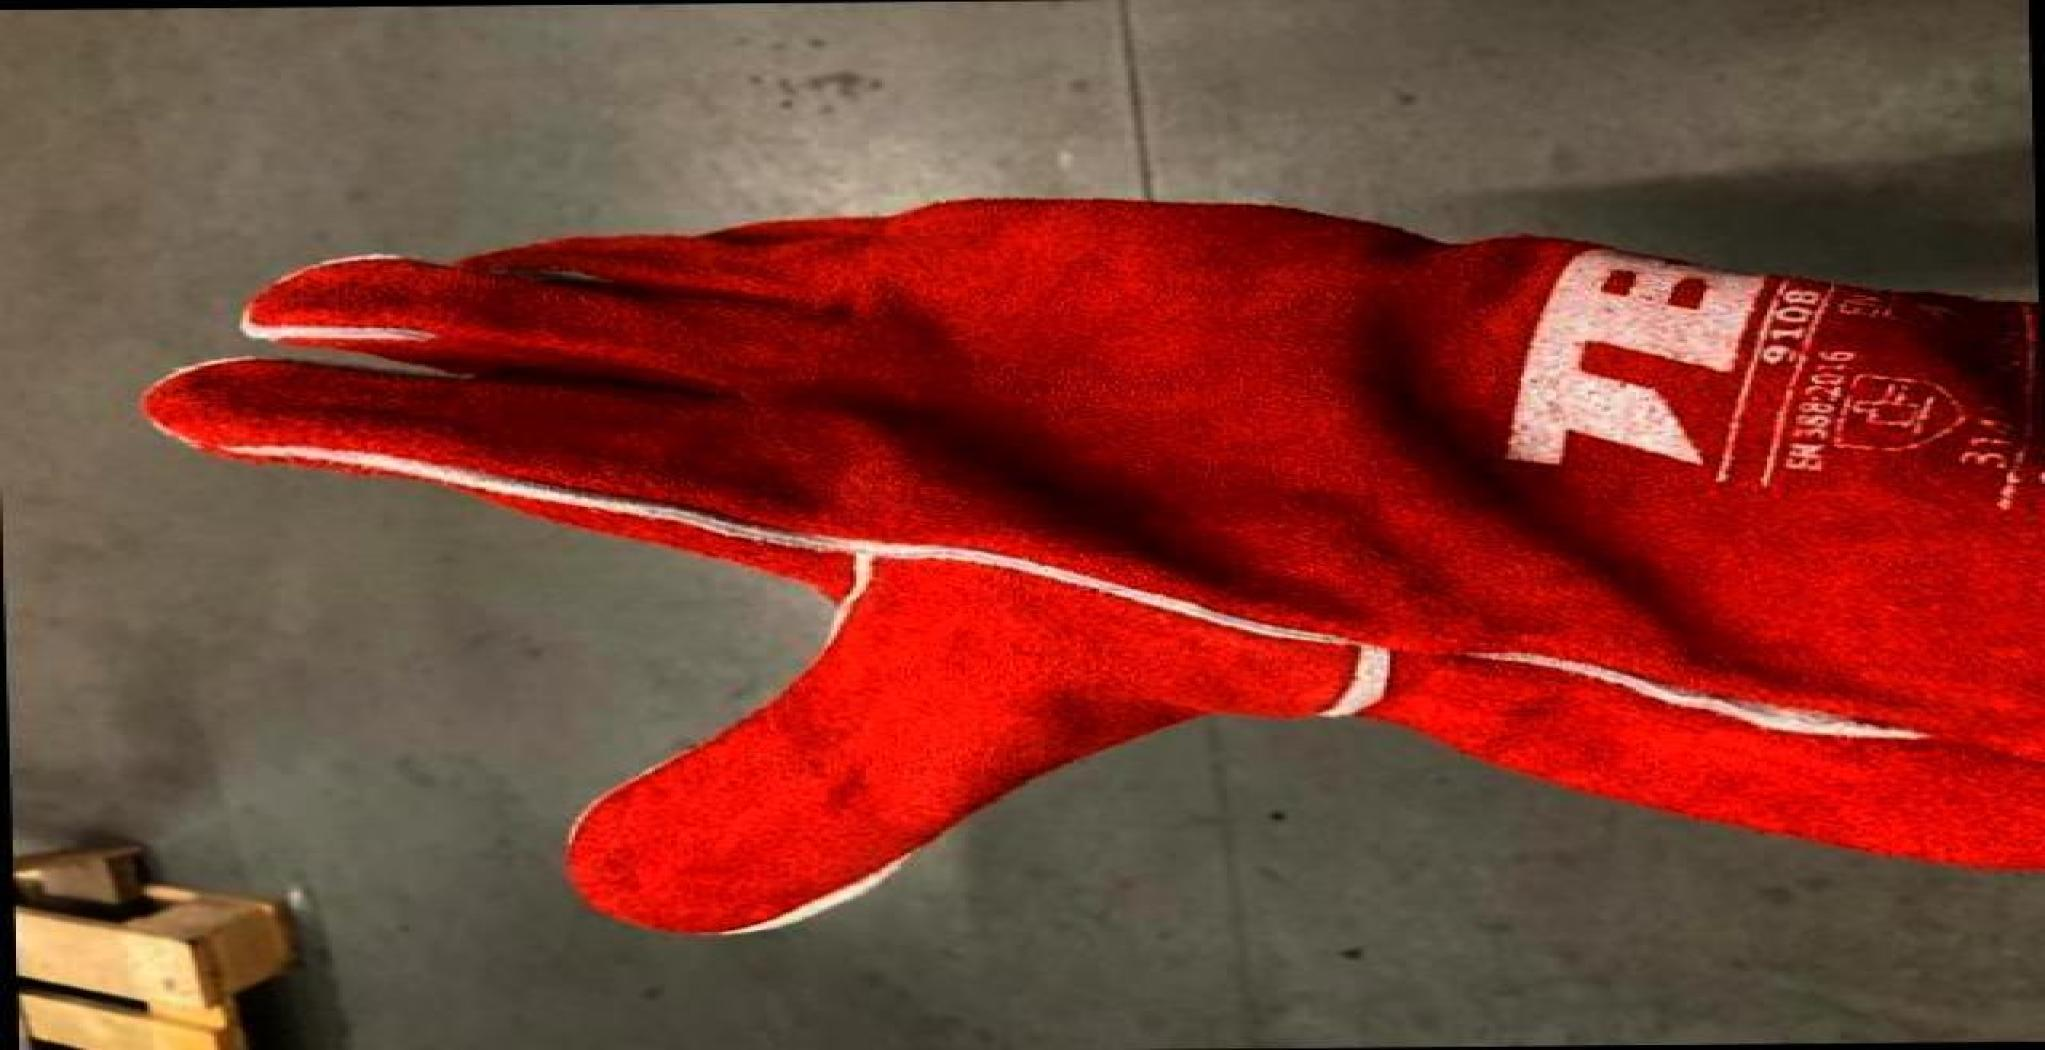gloved: (134, 194, 2042, 936)
